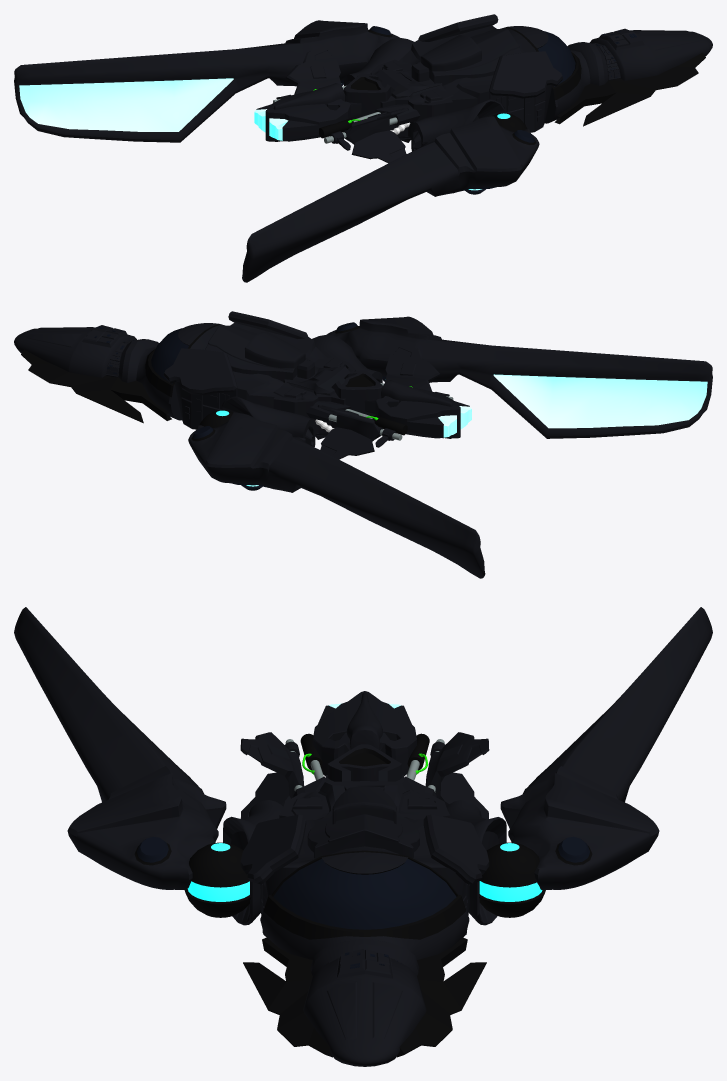
File: SK_Corvette_C.fbx
3 renders of one model, top to bottom at view 1: azimuth 30°, elevation 25°; view 2: azimuth 150°, elevation 25°; view 3: azimuth 270°, elevation 25°, orthographic. The views are drawn at different scales.
Visible parts, largest first — view 1: SK_Corvette_C_Body, SK_Corvette_C_LW, SK_Corvette_C_RW, SK_Corvette_C_Nose; view 2: SK_Corvette_C_Body, SK_Corvette_C_RW, SK_Corvette_C_LW, SK_Corvette_C_Nose; view 3: SK_Corvette_C_Body, SK_Corvette_C_Nose, SK_Corvette_C_RW, SK_Corvette_C_LW.
Boxes of the visible parts, x1,y1,x2,y2 form: SK_Corvette_C_Body: (254, 14, 562, 163); SK_Corvette_C_LW: (14, 20, 399, 142); SK_Corvette_C_RW: (242, 116, 539, 282); SK_Corvette_C_Nose: (500, 26, 712, 126); SK_Corvette_C_Body: (163, 311, 471, 459); SK_Corvette_C_RW: (327, 316, 712, 438); SK_Corvette_C_LW: (188, 412, 485, 578); SK_Corvette_C_Nose: (14, 323, 224, 423); SK_Corvette_C_Body: (184, 691, 545, 937); SK_Corvette_C_Nose: (243, 850, 486, 1066); SK_Corvette_C_RW: (14, 607, 226, 889); SK_Corvette_C_LW: (500, 607, 712, 889).
Size of the model in its own units: 1300 by 213 by 925.
